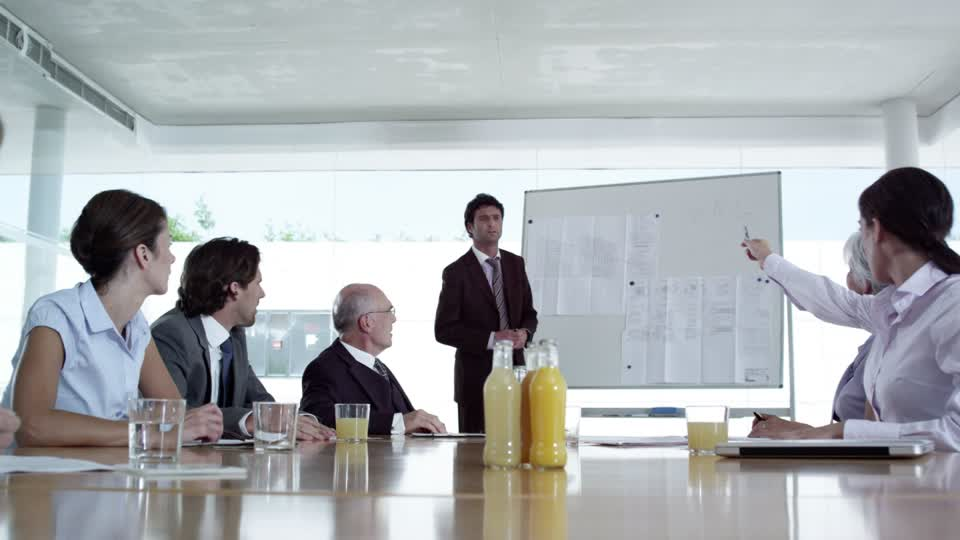Person: (723, 156, 960, 453), (8, 185, 236, 461), (140, 212, 357, 465), (431, 182, 565, 444), (294, 288, 460, 439)
